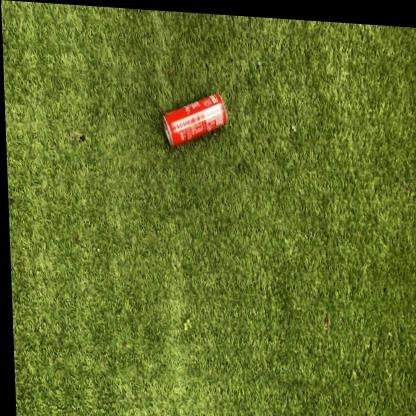trash: (163, 95, 226, 145)
